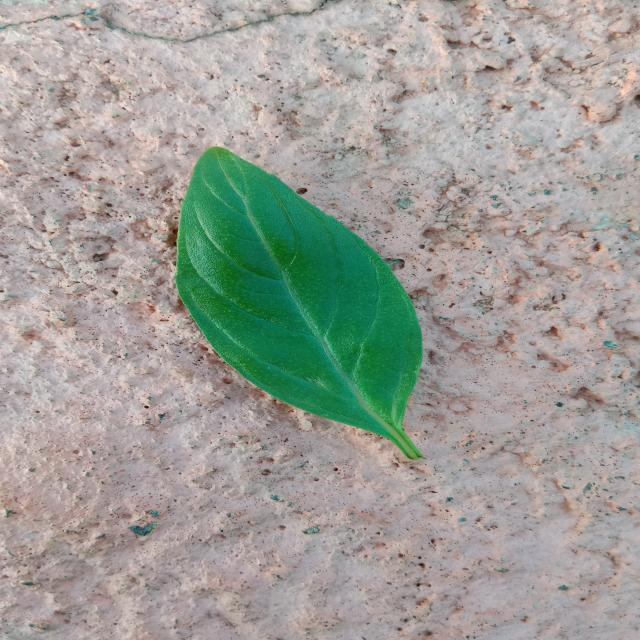kamakasturi: (175, 146, 422, 460)
